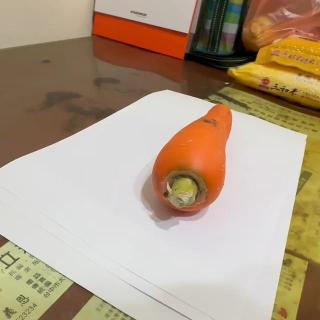carrot: (152, 102, 234, 216)
